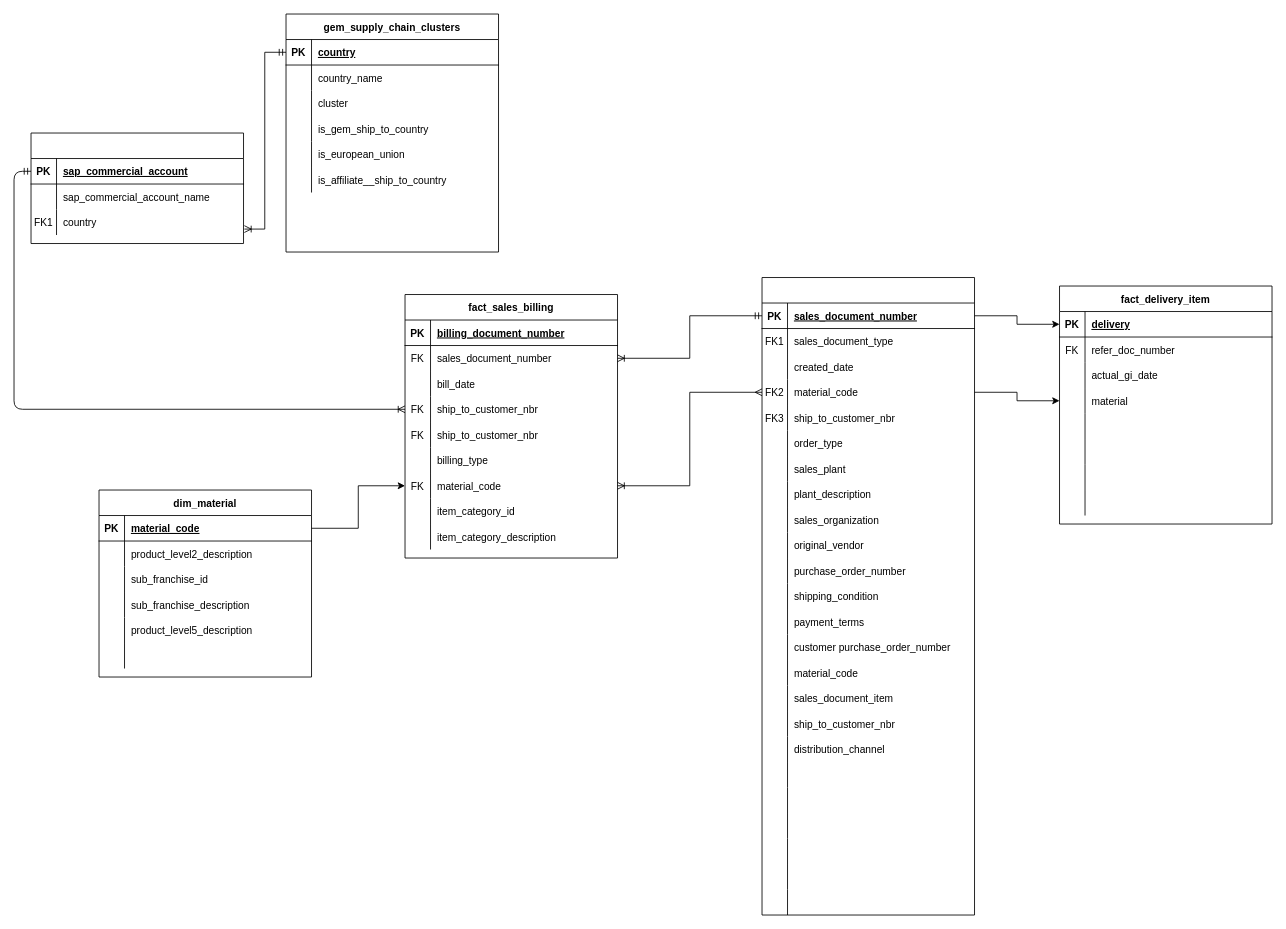
Image size: 1286x929. Some labels were removed from this diagram. Here are the shapes that lost their labels. From the top down, the box of each, then its label:
(30, 132, 244, 244): dim_customer
(761, 277, 975, 915): fact_sales_oti
